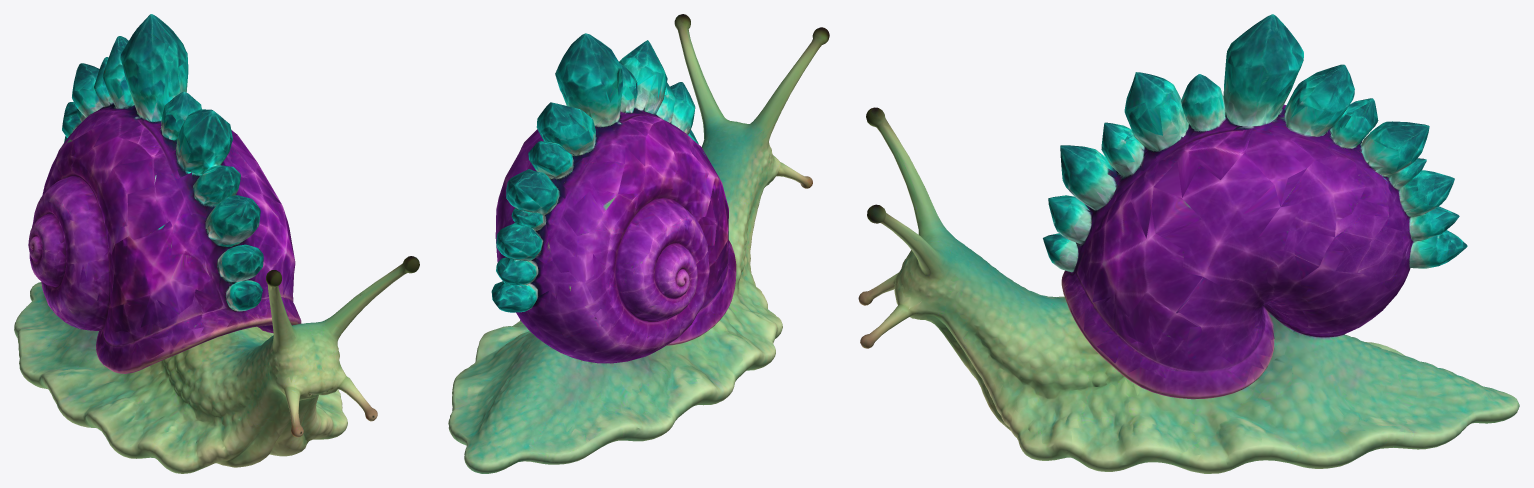
File: snail-meshy-source.glb
3 renders of one model, left to right at view 1: azimuth 30°, elevation 25°; view 2: azimuth 150°, elevation 25°; view 3: azimuth 270°, elevation 25°, orthographic. The views are drawn at different scales.
Visible parts, largest first — view 1: Mesh_0; view 2: Mesh_0; view 3: Mesh_0.
Part boxes in pixels (x1,y1,x2,y2): Mesh_0: [14, 14, 419, 473]; Mesh_0: [448, 14, 829, 473]; Mesh_0: [858, 14, 1519, 473].
Size of the model in its own units: 0.8537 by 1.28 by 1.9.
Materials: 1 (1 with a texture image).
